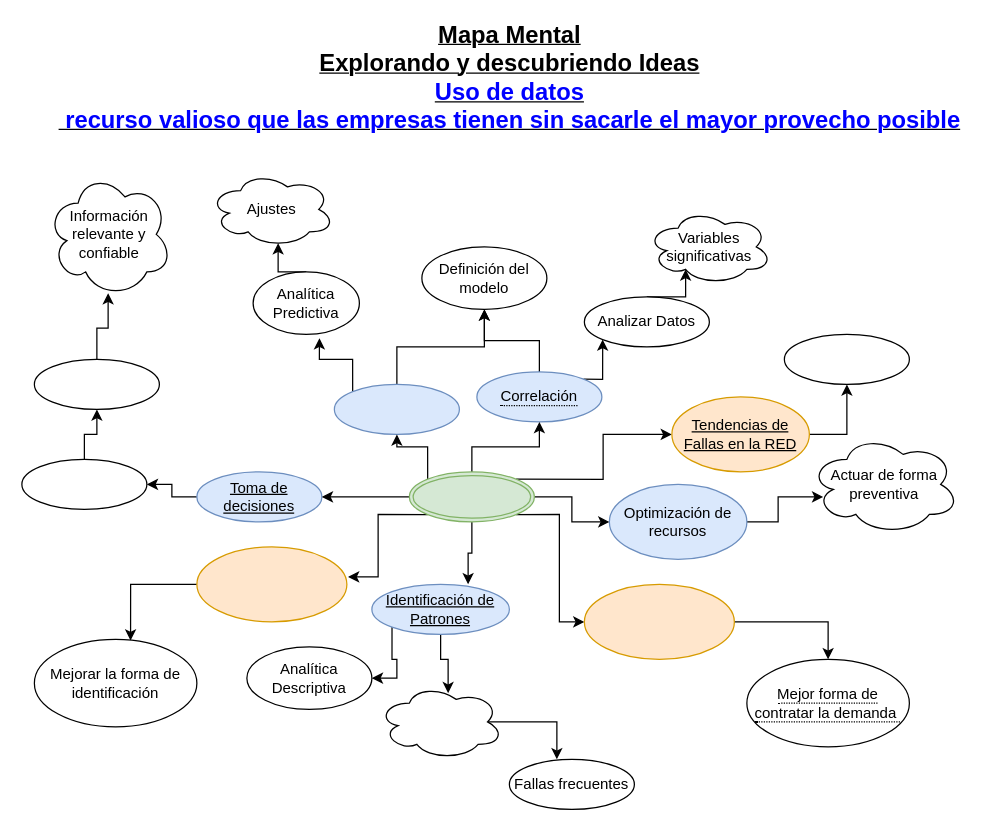
Image size: 994x831. Some labels were removed from this diagram. Each missing label, with the box of its shape:
Ajuste en la atención: (783, 333, 909, 384)
Ciencias de Datos: (408, 471, 534, 522)
Información Practica: (33, 358, 159, 409)
Predicción: (333, 383, 459, 434)
Reflexiva y racional: (21, 458, 147, 509)
Rutinas de clientes: (377, 683, 503, 759)
Tendencias de consumos: (583, 583, 734, 659)
Tendencias de Fraudes: (196, 546, 347, 622)
